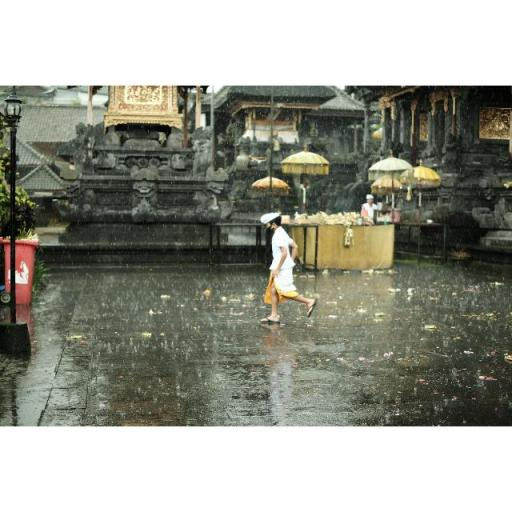Running: (247, 203, 324, 327)
